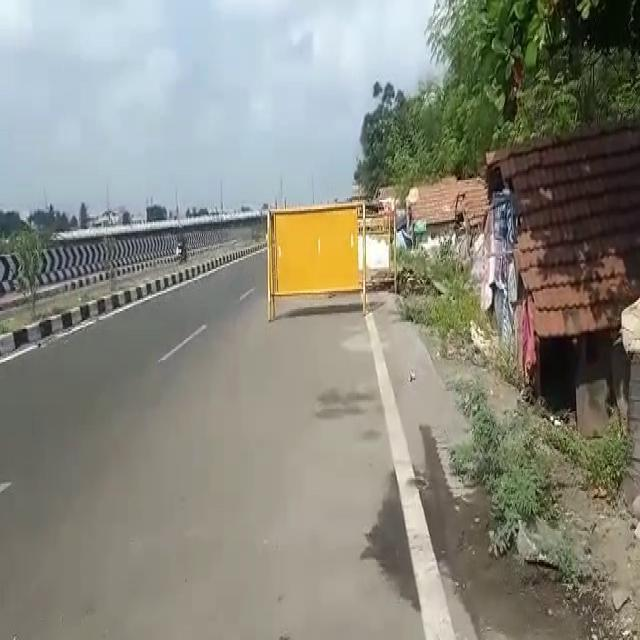fallen_object: (227, 180, 412, 330)
